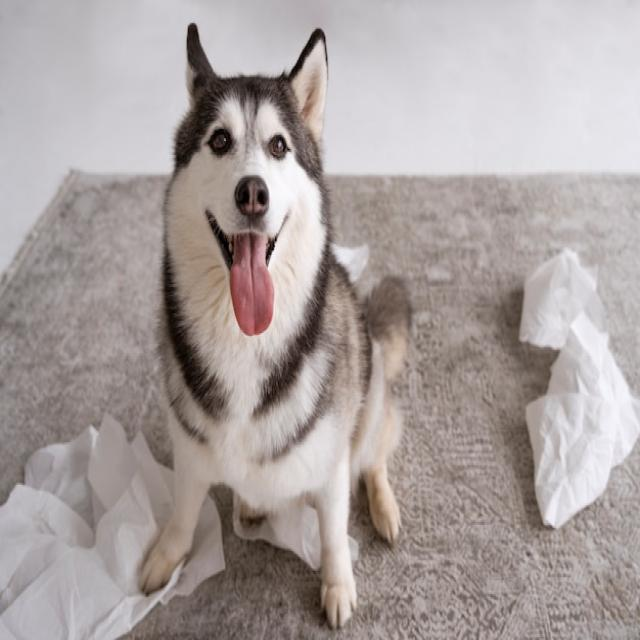Dog: (140, 21, 410, 635)
